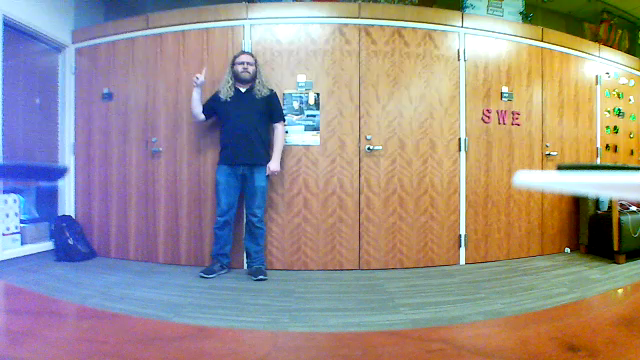up: (189, 61, 210, 92)
